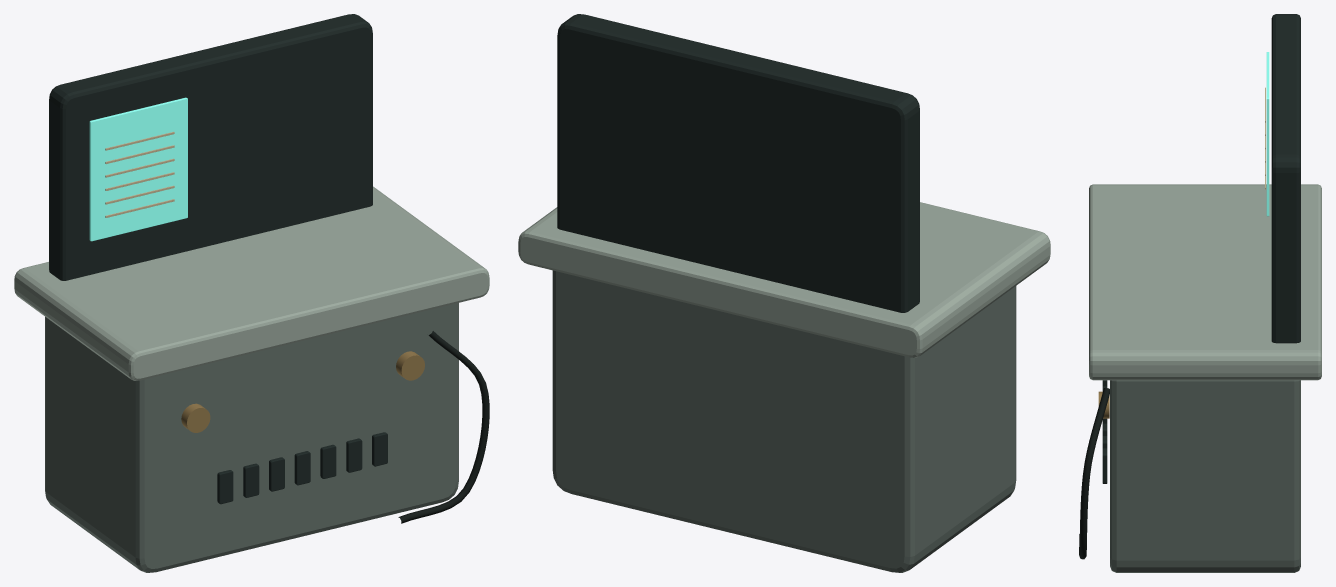
File: lab-terminal.glb
3 views of the same model, side by side, from view 1: azimuth 30°, elevation 25°; view 2: azimuth 150°, elevation 25°; view 3: azimuth 270°, elevation 25° (orthographic). The views are drawn at different scales.
Parts seen in each view (by area): view 1: lab-terminal-steel, lab-terminal-dark, lab-terminal-enamel, lab-terminal-screen, lab-terminal-rubber, lab-terminal-brass, lab-terminal-ivory; view 2: lab-terminal-steel, lab-terminal-dark, lab-terminal-enamel; view 3: lab-terminal-enamel, lab-terminal-steel, lab-terminal-dark, lab-terminal-rubber, lab-terminal-screen.
Part boxes in pixels (x1,y1,x2,y2): lab-terminal-steel: [45, 303, 458, 572]; lab-terminal-dark: [49, 14, 387, 504]; lab-terminal-enamel: [14, 186, 489, 380]; lab-terminal-screen: [89, 97, 187, 241]; lab-terminal-rubber: [398, 331, 489, 523]; lab-terminal-brass: [181, 351, 424, 432]; lab-terminal-ivory: [105, 131, 174, 217]; lab-terminal-steel: [552, 270, 1016, 572]; lab-terminal-dark: [557, 14, 919, 312]; lab-terminal-enamel: [518, 202, 1050, 357]; lab-terminal-enamel: [1089, 184, 1321, 380]; lab-terminal-steel: [1110, 380, 1300, 572]; lab-terminal-dark: [1102, 14, 1300, 483]; lab-terminal-rubber: [1079, 387, 1109, 559]; lab-terminal-screen: [1266, 52, 1269, 216].
Bounding box in the file's own units: 1.68 × 1.88 × 0.9909.
